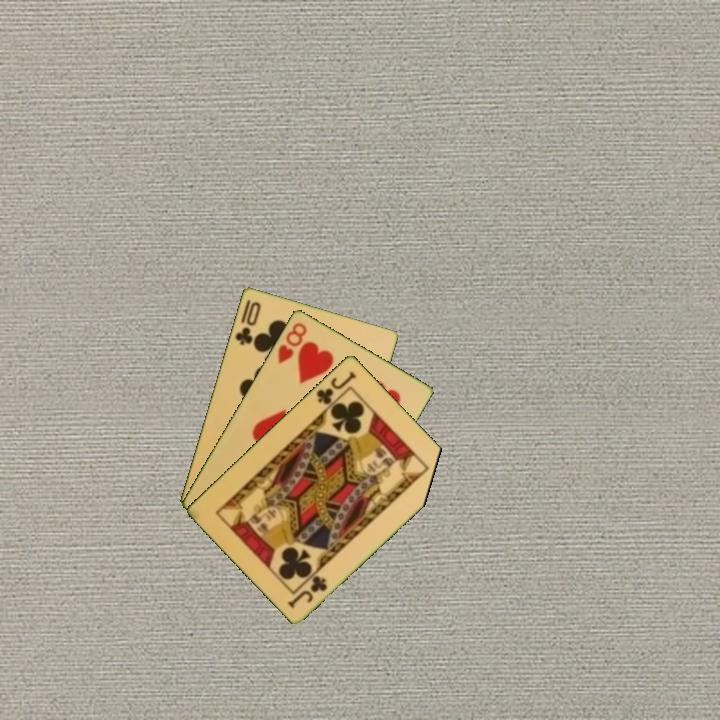10c: (231, 298, 264, 348)
8h: (274, 318, 310, 366)
Jc: (313, 367, 359, 407), (284, 571, 330, 611)
